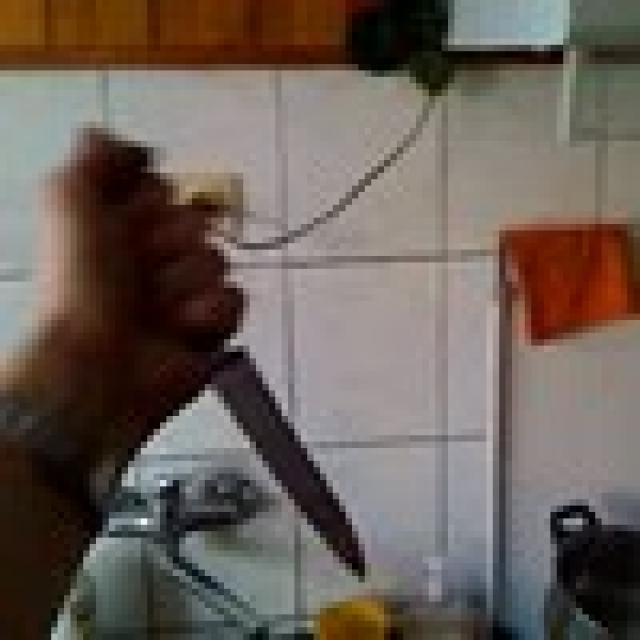Knife: (90, 141, 378, 576)
